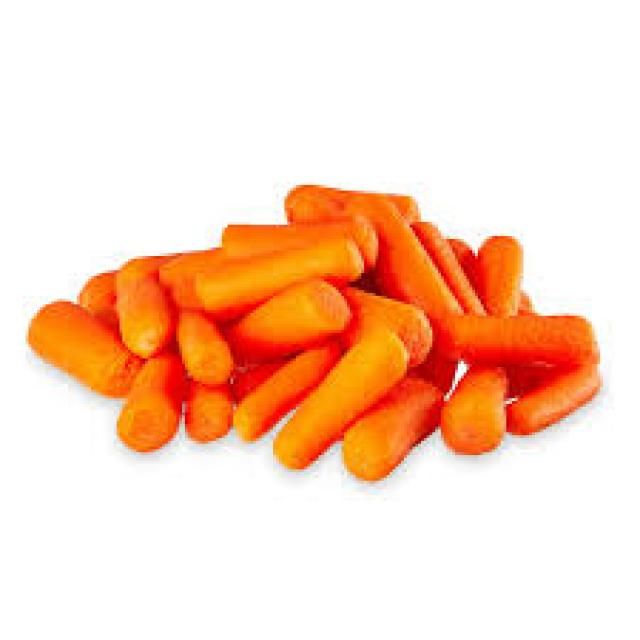Carrot: (267, 335, 411, 472), (339, 194, 456, 325), (327, 377, 442, 490), (225, 270, 359, 360), (18, 292, 138, 391), (226, 338, 370, 419), (191, 232, 391, 285), (438, 307, 606, 359), (157, 298, 233, 384), (121, 338, 179, 448), (114, 246, 172, 350), (469, 220, 525, 321), (455, 370, 486, 470)
